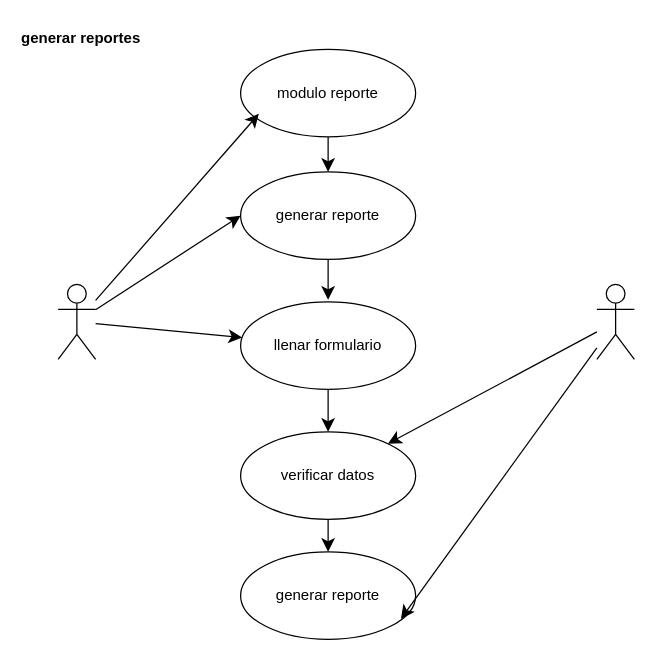
The diagram is 664 pixels wide and 661 high, and some of its shapes have lost their labels. The shapes that lost their labels are listed below. From the top down, each one's centre as x and y in pixels, then its label:
point (76, 321): Admin
point (615, 321): Sistema
